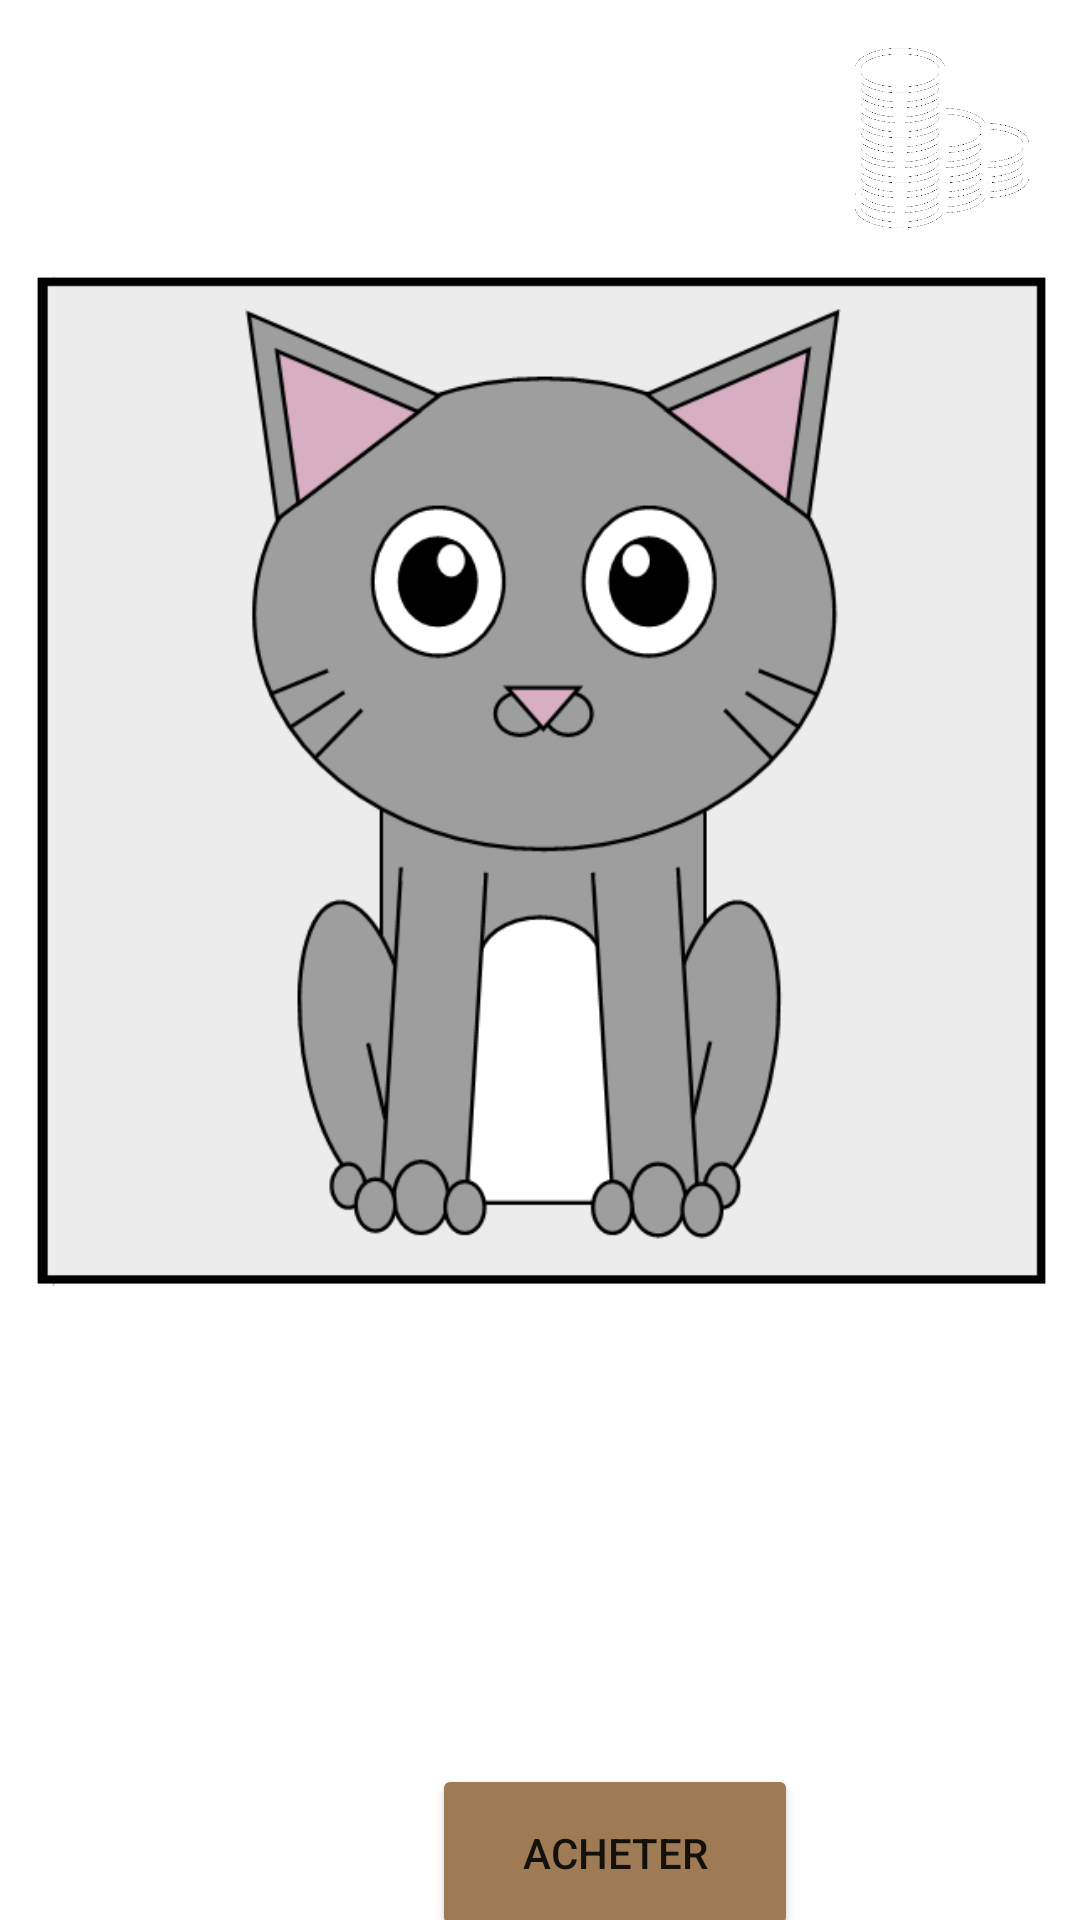

Named icons in this screenshot (1080px×1920px) and their bounding boxes, {"x1": x1, "y1": y1, "x2": x2, "y2": y2}:
coin: {"x1": 855, "y1": 48, "x2": 1029, "y2": 228}
